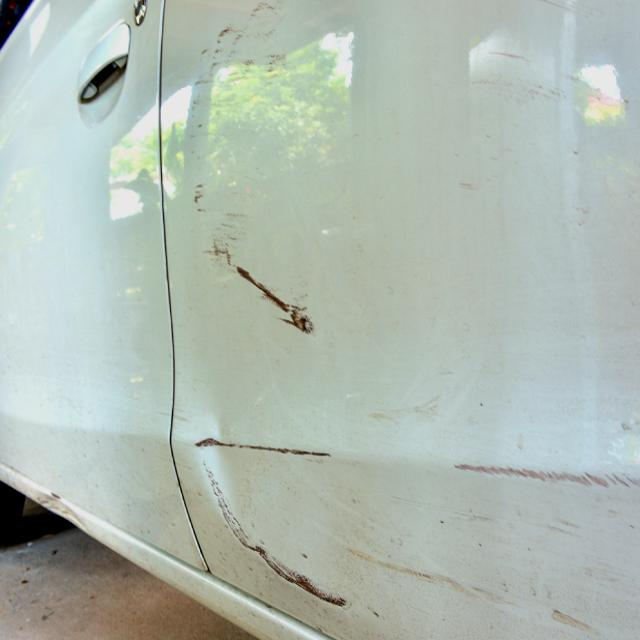Cabossage: (192, 396, 246, 534)
Rayure: (341, 538, 595, 640), (205, 467, 350, 617), (468, 36, 640, 151), (186, 235, 321, 357), (189, 0, 300, 141), (449, 437, 640, 511), (189, 424, 342, 481), (183, 173, 252, 240), (360, 395, 473, 430)
